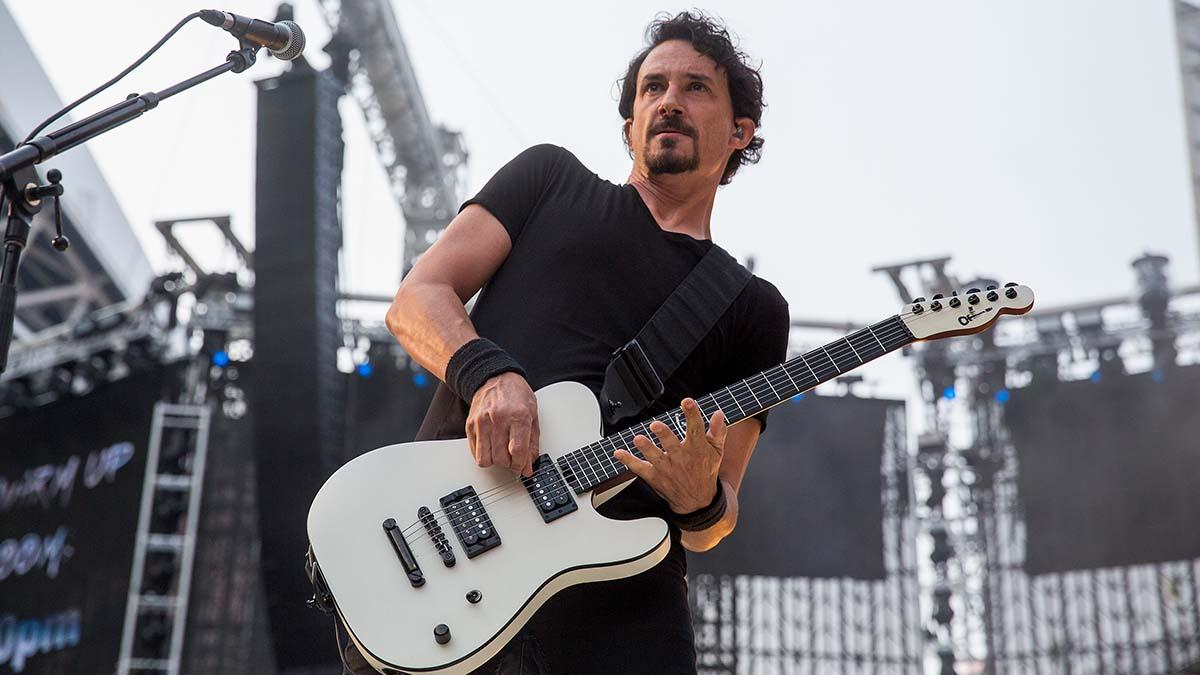acousticguitar: (306, 278, 1038, 671)
